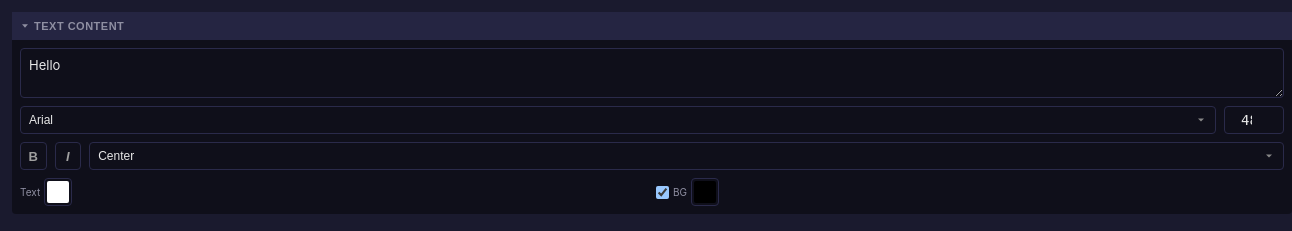
Test: TextContentSection › the font size field (ESCSUITE-256) › reverts an emptied field without writing
Clear the number field titled "Font size" at (1254, 120), box [1224,106,1284,134]
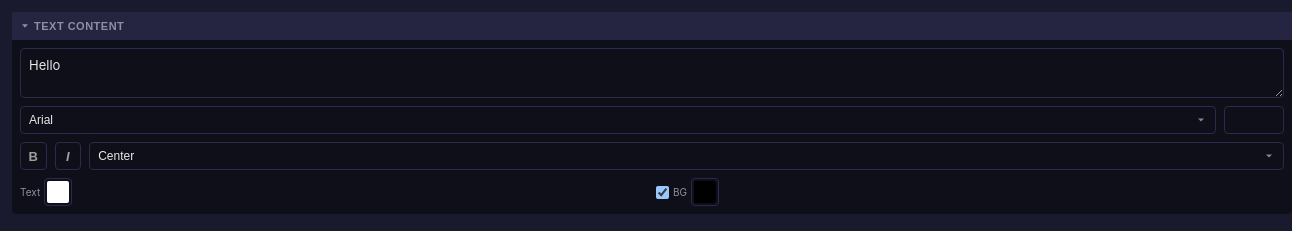
Leave the number field titled "Font size", box [1224,106,1284,134]
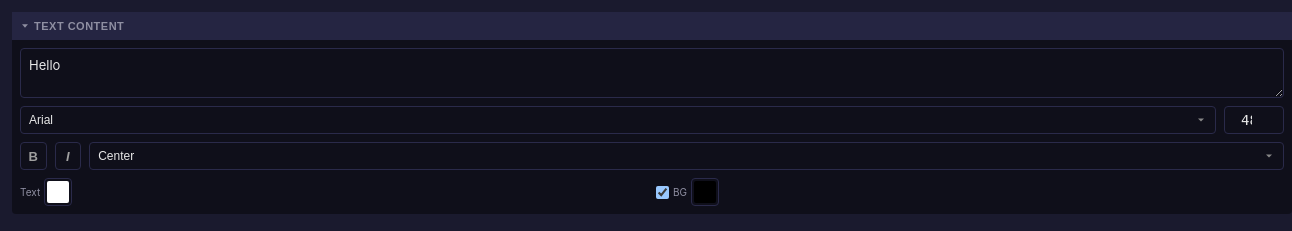
Expected: the number field titled "Font size" holds "48", [1224,106,1284,134]
